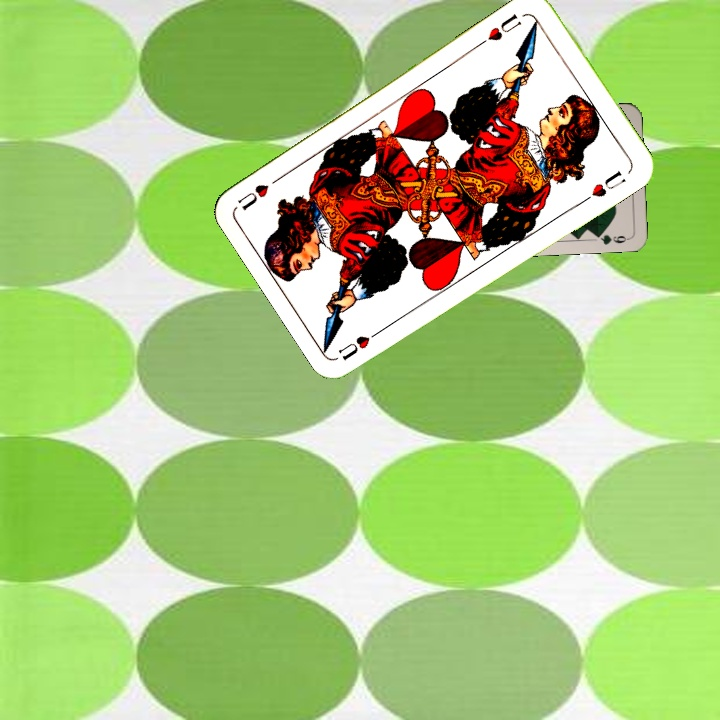HU: (334, 323, 388, 363), (476, 9, 524, 48)
